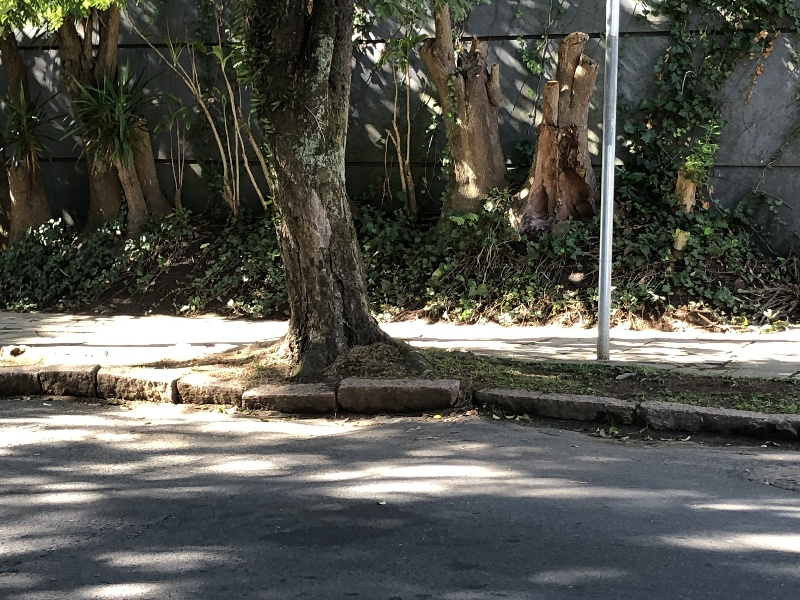v68: (5, 316, 800, 463)
